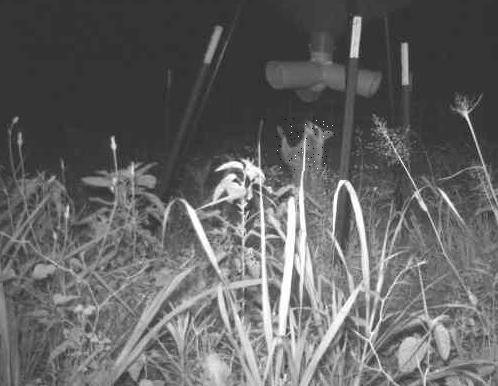Raccoon: (274, 117, 334, 171)
